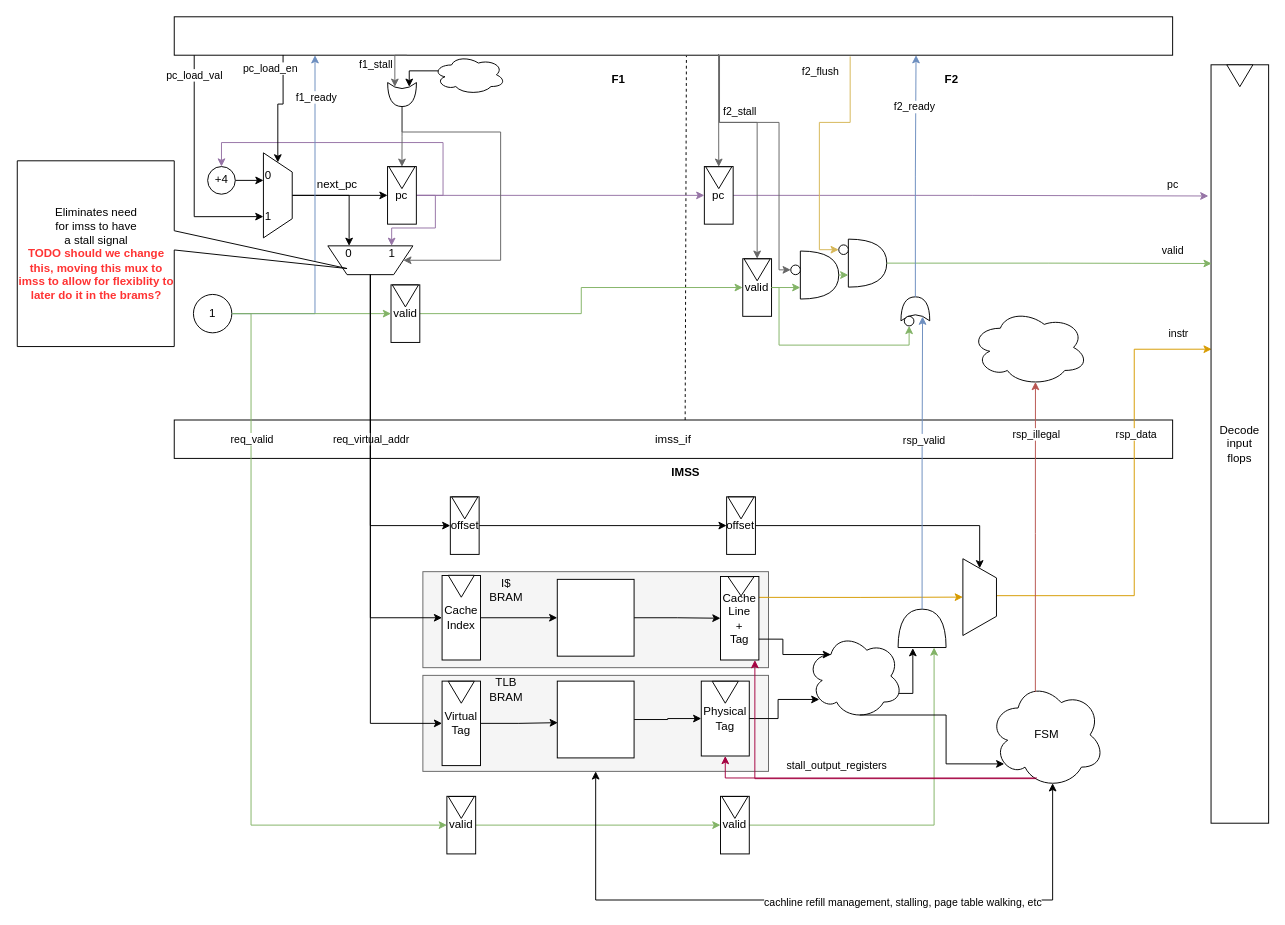
The diagram is 1285 pixels wide and 925 high, and some of its shapes have lost their labels. The centre of each missing label's shape, as x and y in pixels:
"adhesive" goes at pixel 673 35.
"f1_init" goes at pixel 468 74.
"I$ BRAM Cells" goes at pixel 595 617.
"not yet used" goes at pixel 1029 347.
"Tag Comparison" goes at pixel 854 675.
"TLB BRAM Cells" goes at pixel 595 719.
"Word Mux" goes at pixel 979 597.
